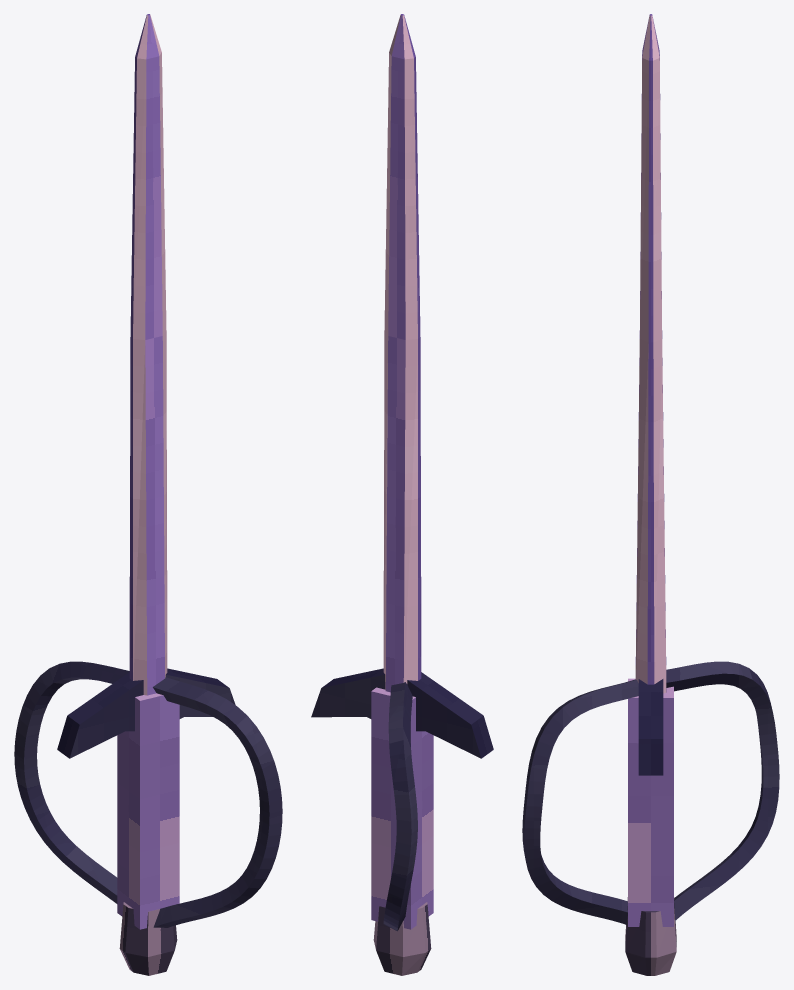
The model's file is cutout.obj.
3 views of the same model, side by side, from view 1: azimuth 30°, elevation 25°; view 2: azimuth 150°, elevation 25°; view 3: azimuth 270°, elevation 25° (orthographic).
Bounding box in the file's own units: 0.4188 × 2.24 × 0.5472.
